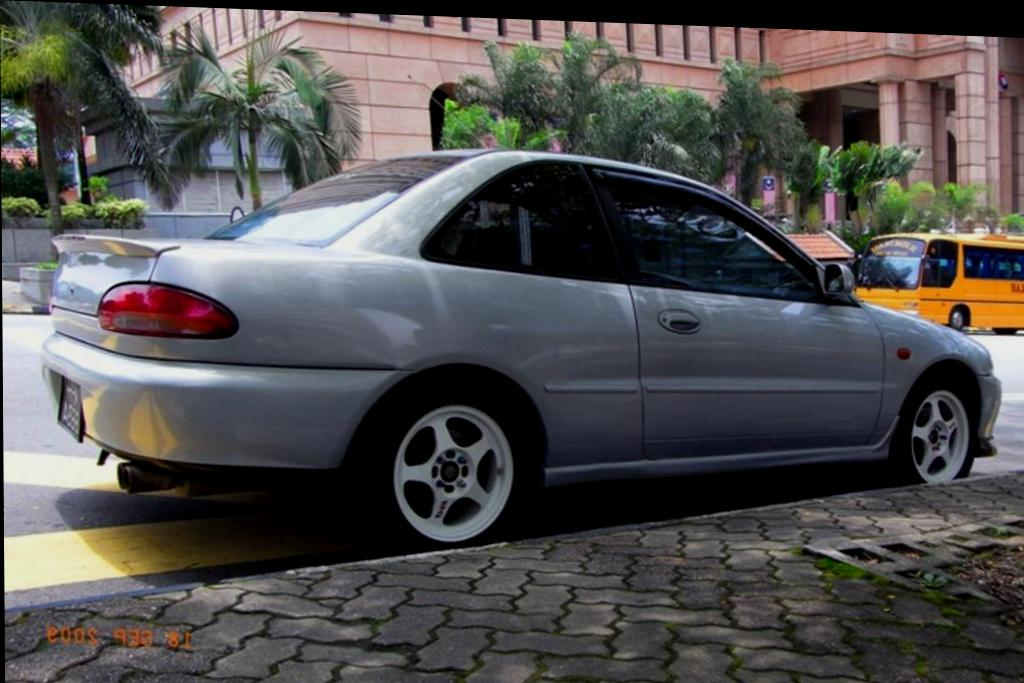License_Plate: (47, 376, 84, 442)
